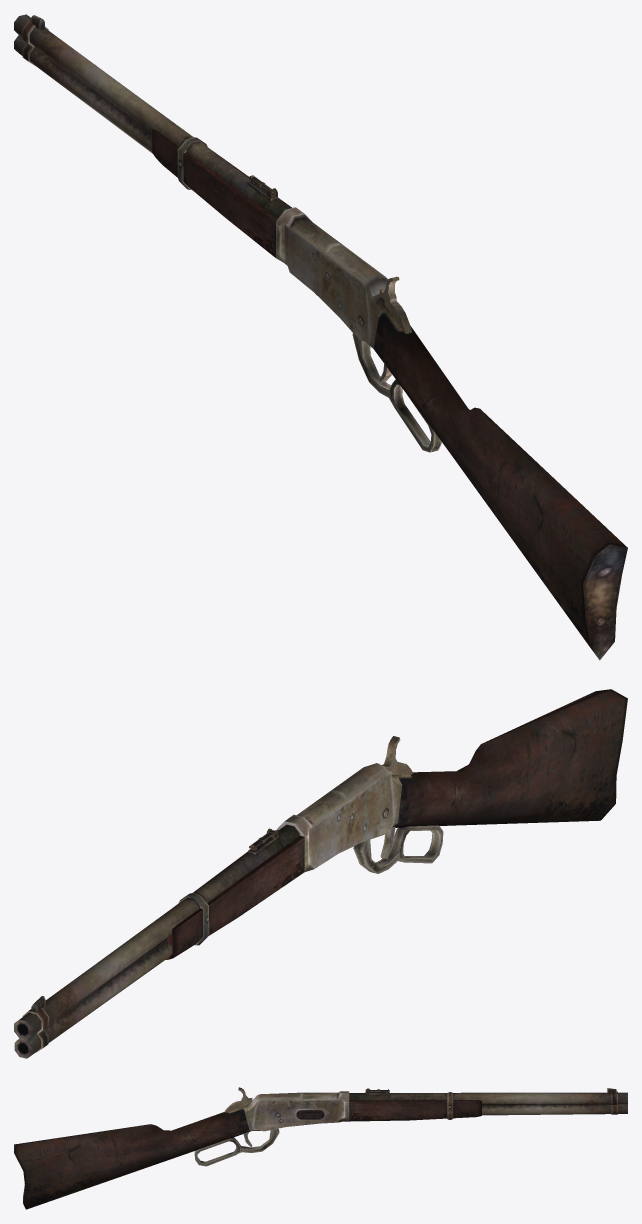
File: rdr1_-_winchester_repeater.glb
3 renders of one model, top to bottom at view 1: azimuth 30°, elevation 25°; view 2: azimuth 150°, elevation 25°; view 3: azimuth 270°, elevation 25°, orthographic. The views are drawn at different scales.
Visible parts, largest first — view 1: object1_mat1.010_0; view 2: object1_mat1.010_0; view 3: object1_mat1.010_0.
Boxes of the visible parts, <box> form: object1_mat1.010_0: <box>14,14,627,660</box>; object1_mat1.010_0: <box>14,689,627,1058</box>; object1_mat1.010_0: <box>14,1087,627,1209</box>.
Bounding box in the file's own units: 0.0356 × 0.2026 × 0.9263.
1 material, 1 textured.
